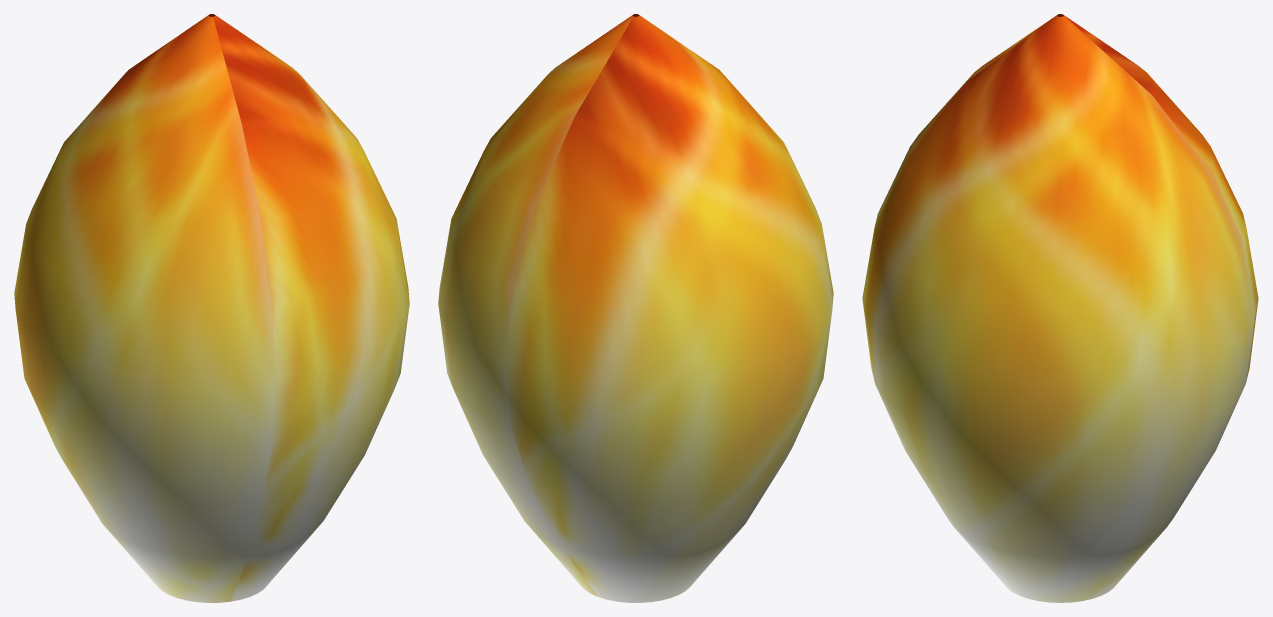
Rendered from Muzzle flash.fbx.
The picture shows the model from 3 angles, left to right: view 1: azimuth 30°, elevation 25°; view 2: azimuth 150°, elevation 25°; view 3: azimuth 270°, elevation 25°; orthographic projection.
Visible parts, largest first — view 1: Muzzle Flash; view 2: Muzzle Flash; view 3: Muzzle Flash.
Part boxes in pixels (bbox=[...]): Muzzle Flash: bbox=[14, 14, 409, 602]; Muzzle Flash: bbox=[438, 14, 833, 602]; Muzzle Flash: bbox=[862, 14, 1258, 602].
Bounding box in the file's own units: 75.6 × 119 × 75.6.
1 material, 1 textured.
